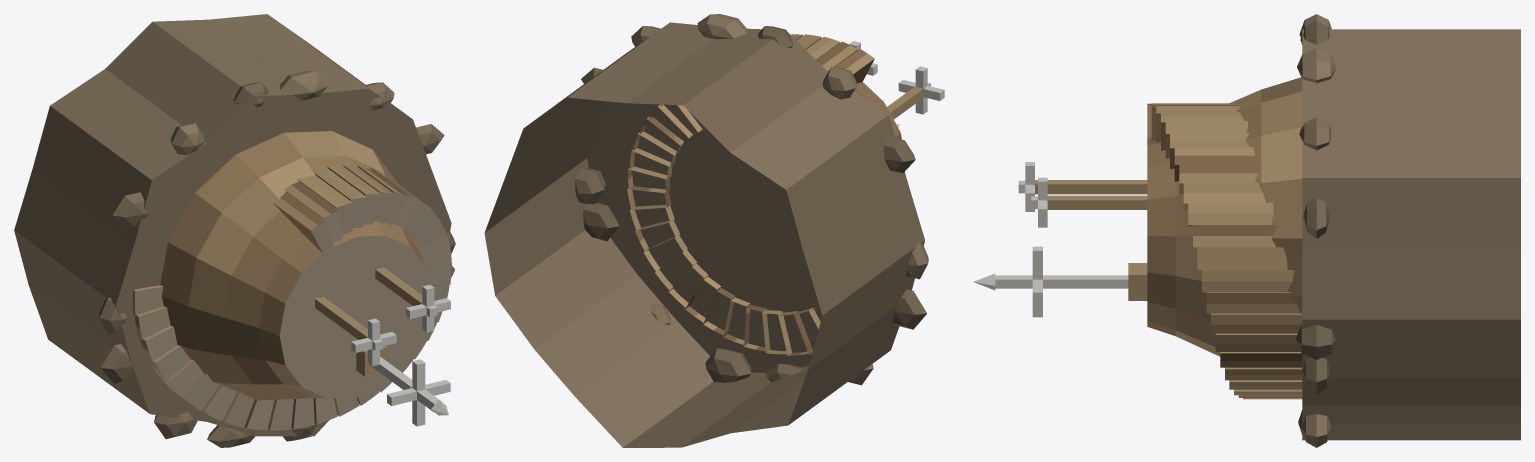
The model's file is turo-tres-creus.glb.
3 views of the same model, side by side, from view 1: azimuth 30°, elevation 25°; view 2: azimuth 150°, elevation 25°; view 3: azimuth 270°, elevation 25° (orthographic). The views are drawn at different scales.
Parts seen in each view (by area): view 1: turo-tres-creus; view 2: turo-tres-creus; view 3: turo-tres-creus.
Boxes of the visible parts, bbox=[...] form: turo-tres-creus: bbox=[14, 14, 455, 447]; turo-tres-creus: bbox=[484, 14, 944, 447]; turo-tres-creus: bbox=[973, 14, 1520, 447].
Bounding box in the file's own units: 13.88 × 13.63 × 17.3.
